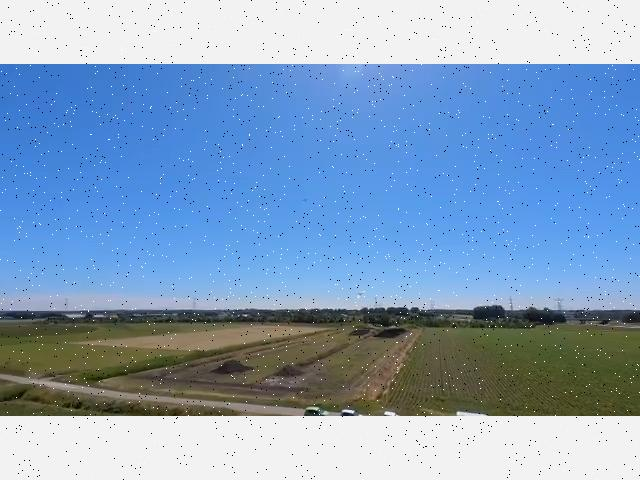Anti-Drone: (294, 191, 314, 208)
